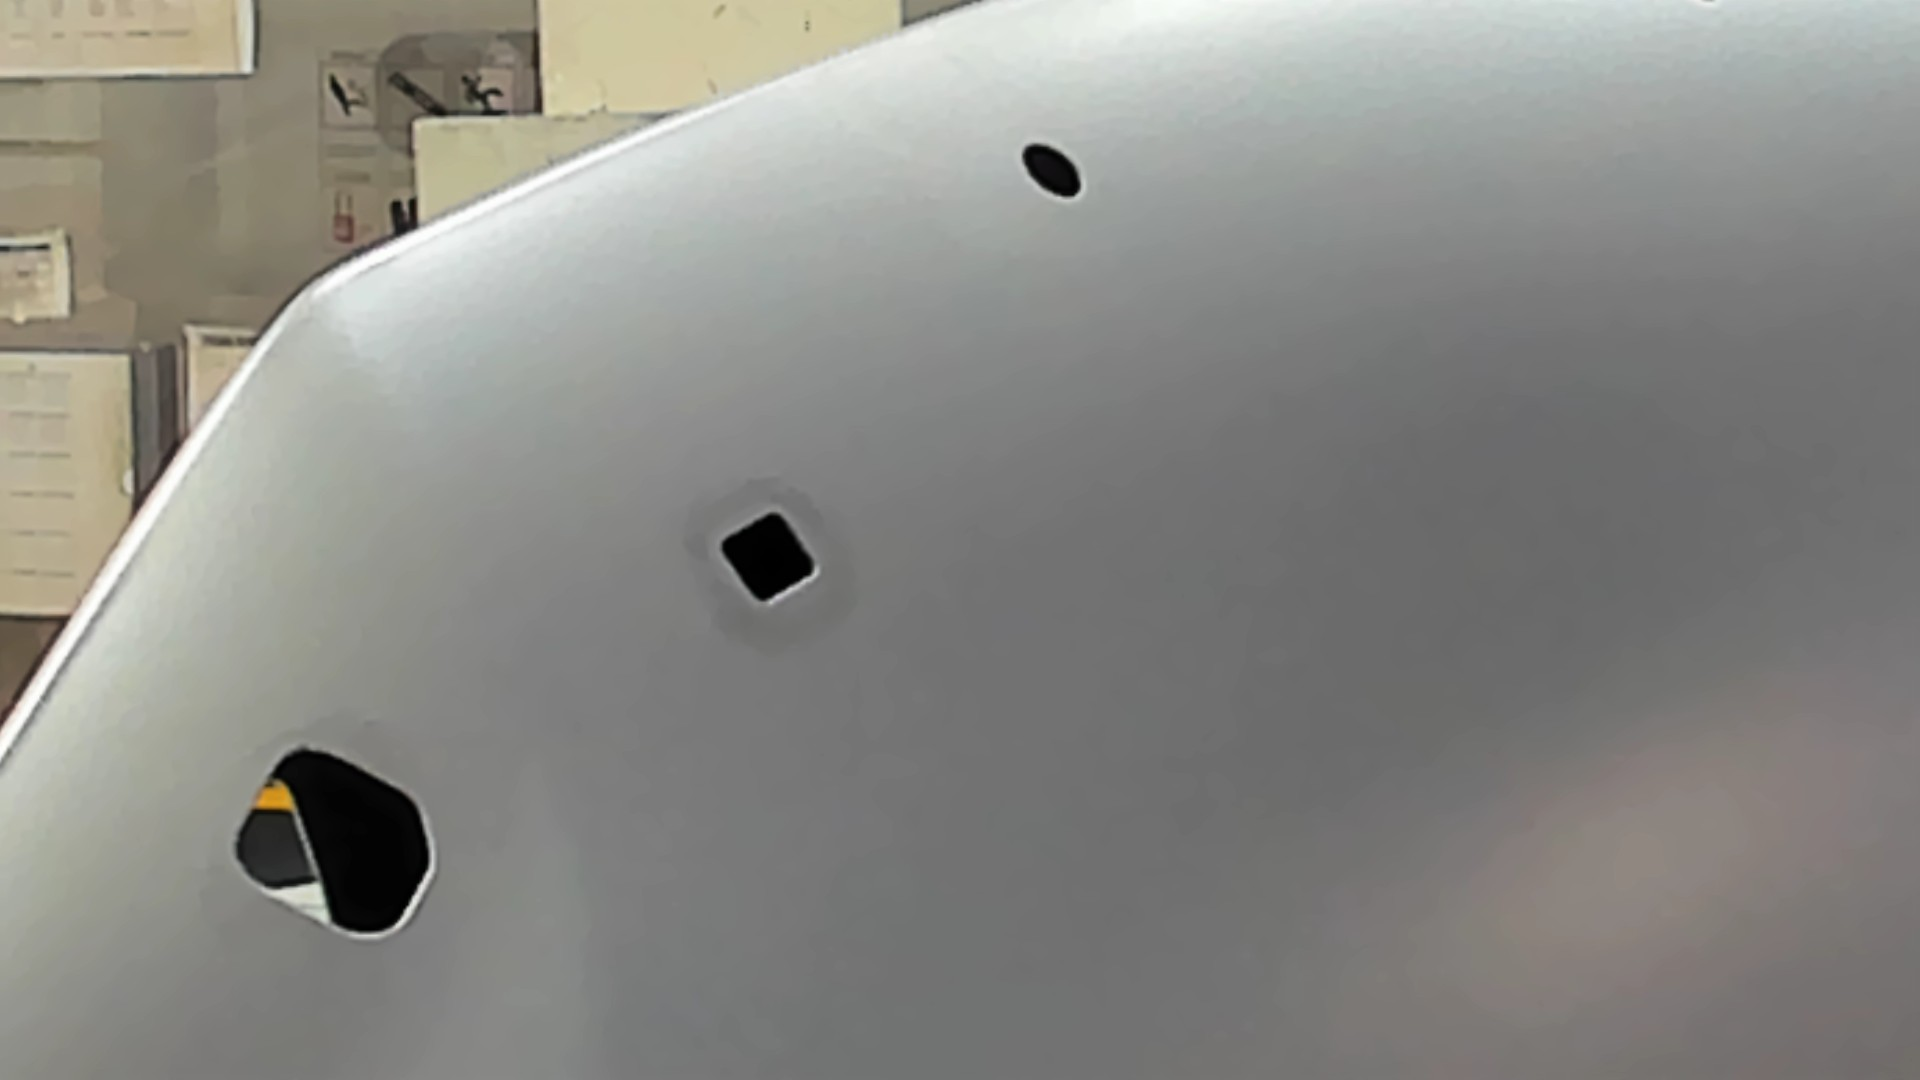chico: (1015, 136, 1087, 203)
grande: (229, 742, 439, 939)
mediano: (717, 506, 822, 607)
